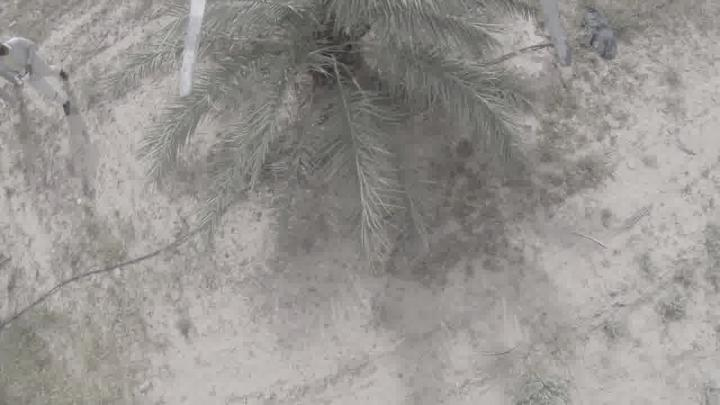Date-Palm-Crown: (211, 0, 453, 148)
